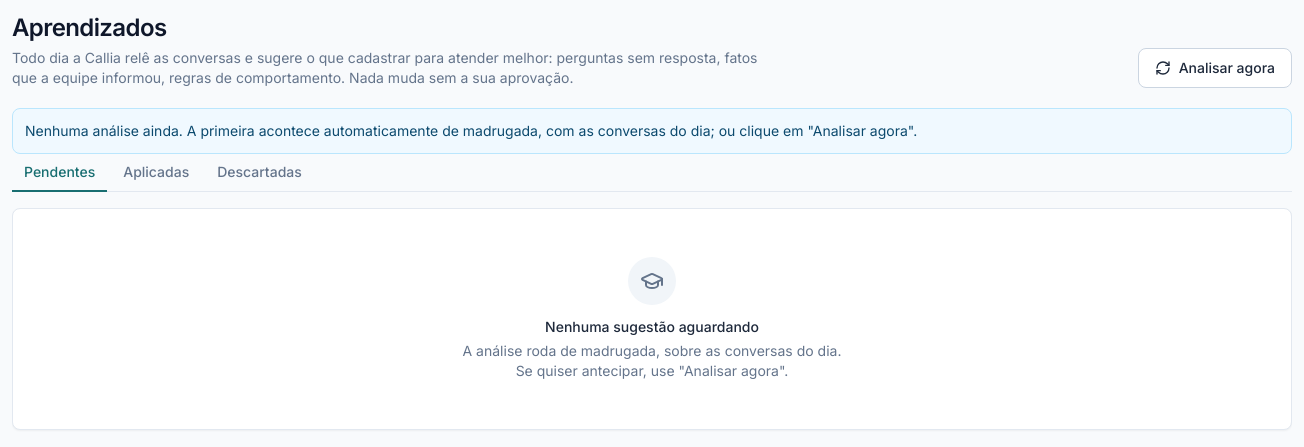
Test case: aprendizados (tela) › aba Aplicadas mostra o que foi gravado (já com a edição do admin)
The width and height of the screenshot is (1304, 447).
Step 1. Click the tab "Aplicadas" → {"x": 156, "y": 173}, box [111, 154, 201, 192]
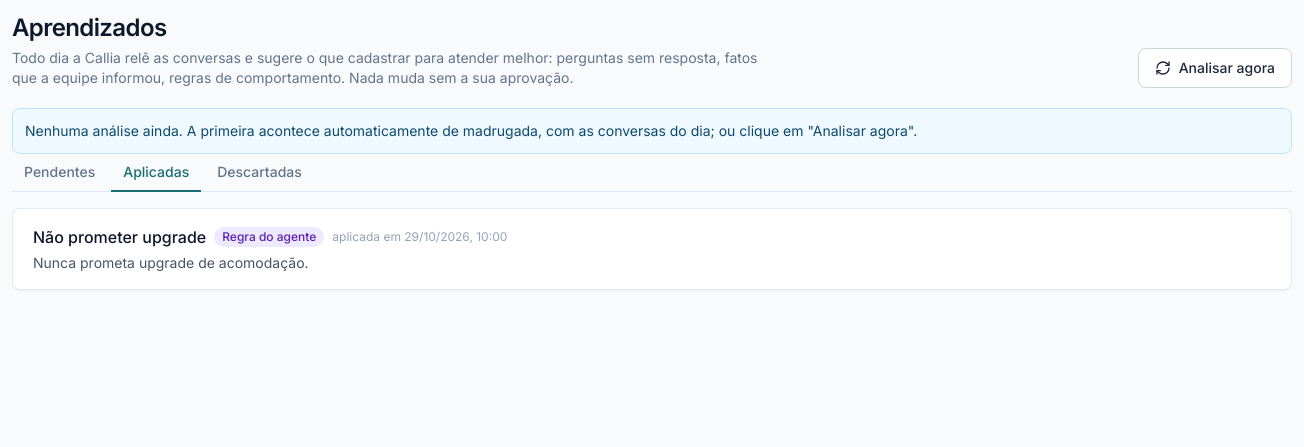
expect the text "Não prometer upgrade" is shown: met, box [33, 225, 206, 249]
expect the text "Nunca prometa upgrade de acomodação." is shown: met, box [33, 254, 309, 271]
expect the text "aplicada em 29/10/2026, 10:00" is shown: met, box [332, 229, 507, 245]
